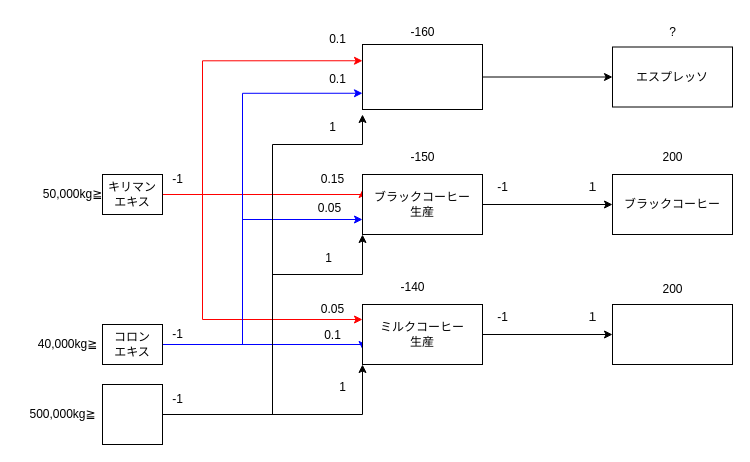
This 750x462 diagram has some shape labels left out. Each missing label, with the centre of its shape:
"エスプレッソ 生産" goes at (x=422, y=77).
"ミルクコーヒー" goes at (x=672, y=334).
"生産 能力" goes at (x=132, y=414).
